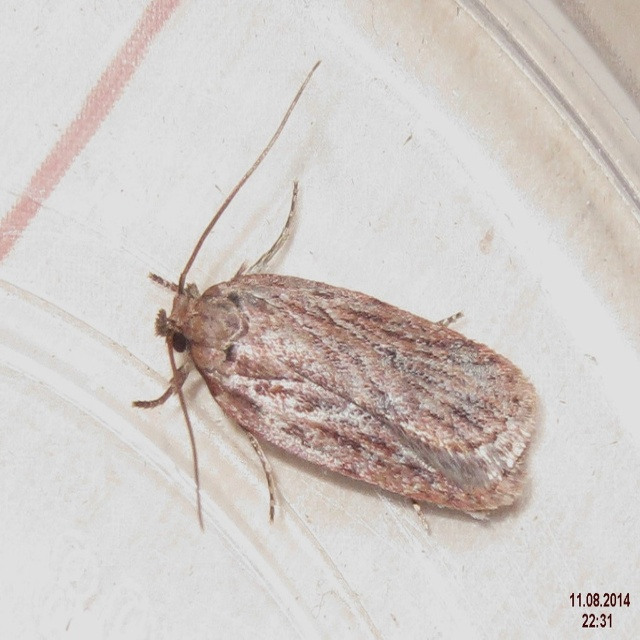Moths and butterflies: (129, 55, 537, 532)
